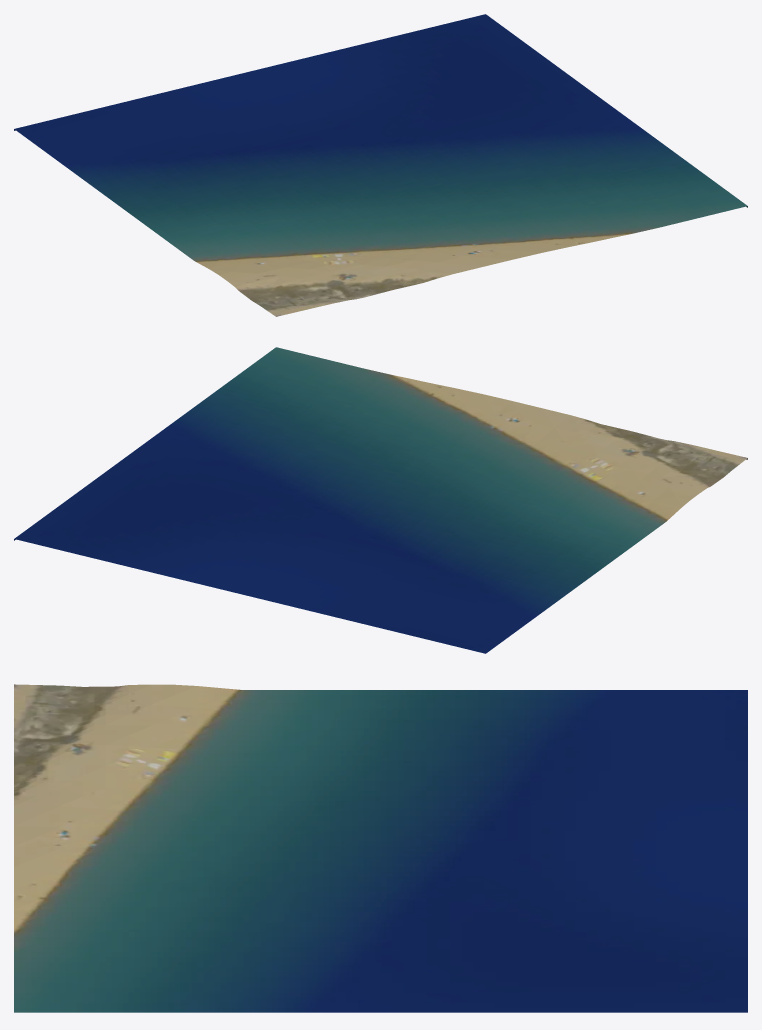
3 renders of one model, top to bottom at view 1: azimuth 30°, elevation 25°; view 2: azimuth 150°, elevation 25°; view 3: azimuth 270°, elevation 25°, orthographic. The views are drawn at different scales.
Size of the model in its own units: 250 by 3.24 by 241.
1 material, 1 textured.
